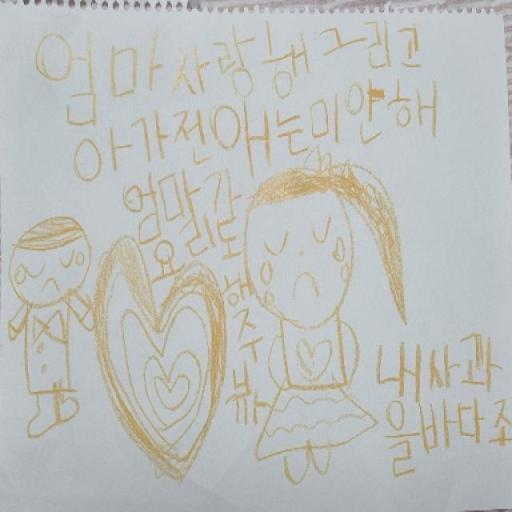person: (235, 149, 414, 499), (0, 209, 98, 443)
